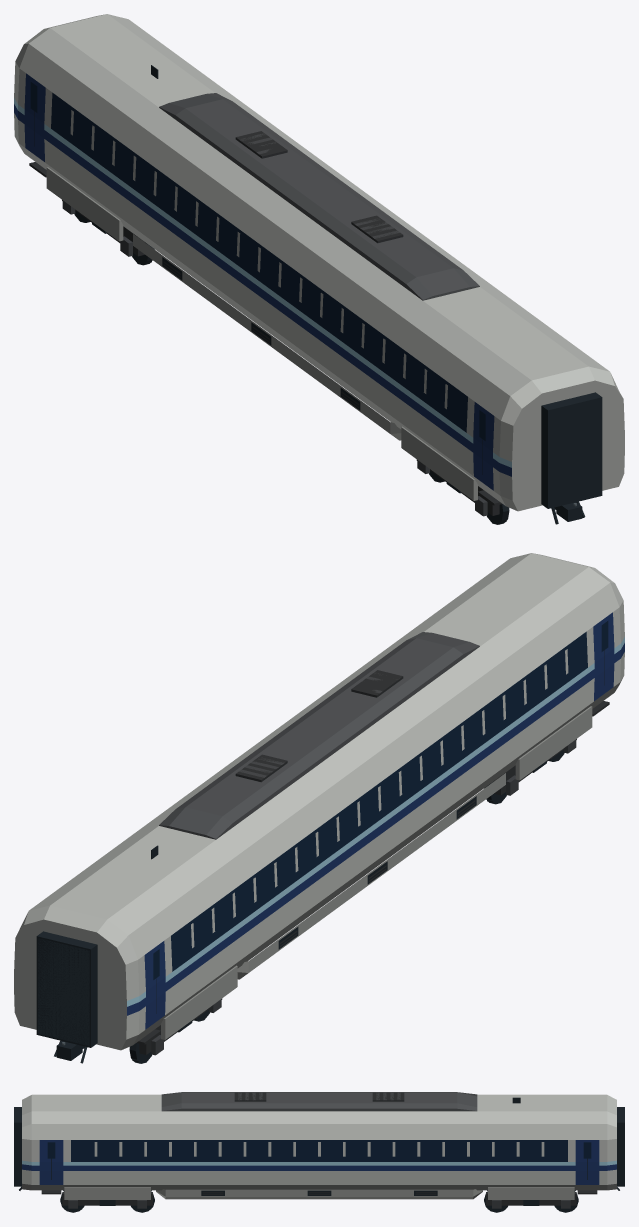
File: express-car.glb
The picture shows the model from 3 angles, top to bottom: view 1: azimuth 30°, elevation 25°; view 2: azimuth 150°, elevation 25°; view 3: azimuth 270°, elevation 25°; orthographic projection. The views are drawn at different scales.
Visible parts, largest first — view 1: express-car (×2); view 2: express-car (×2); view 3: express-car (×2).
Part boxes in pixels (left/top/right/bottom): express-car (×2): left=14, top=14, right=624, bottom=524; express-car (×2): left=14, top=553, right=624, bottom=1063; express-car (×2): left=14, top=1092, right=624, bottom=1212.
Size of the model in its own units: 8.58 by 11.95 by 62.
